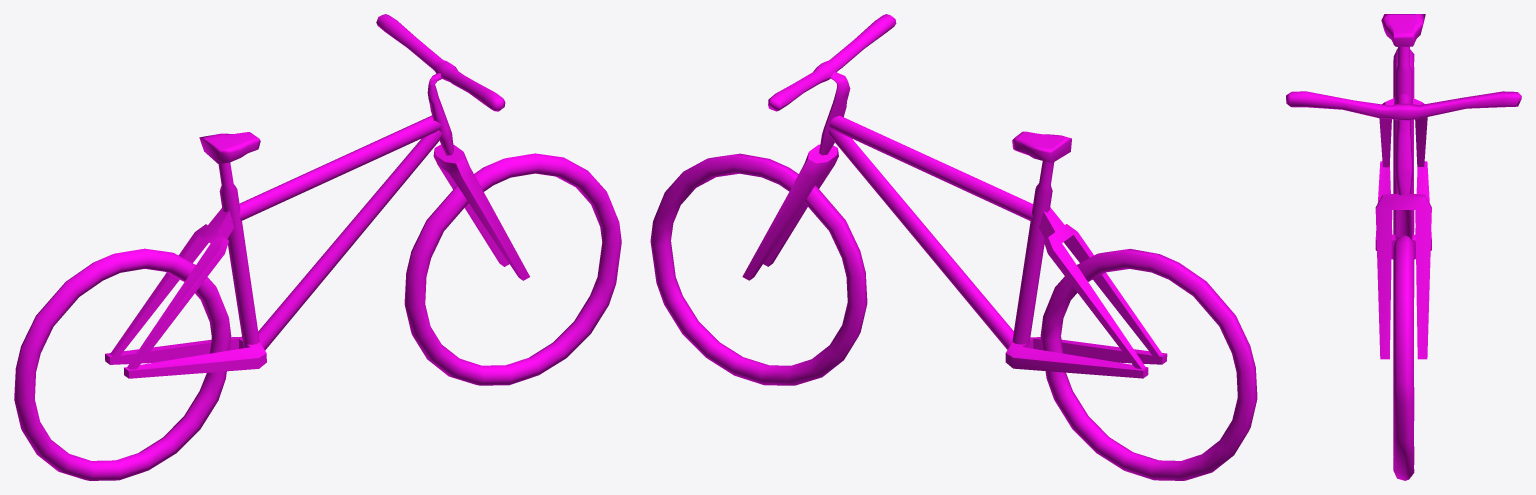
File: Bike var 1.fbx
3 renders of one model, left to right at view 1: azimuth 30°, elevation 25°; view 2: azimuth 150°, elevation 25°; view 3: azimuth 270°, elevation 25°, orthographic.
Visible parts, largest first — view 1: Bike; view 2: Bike; view 3: Bike.
Part boxes in pixels (bbox=[...]): Bike: bbox=[14, 14, 621, 480]; Bike: bbox=[650, 14, 1257, 480]; Bike: bbox=[1286, 14, 1521, 480].
Size of the model in its own units: 1.06 by 0.5777 by 0.3606.
